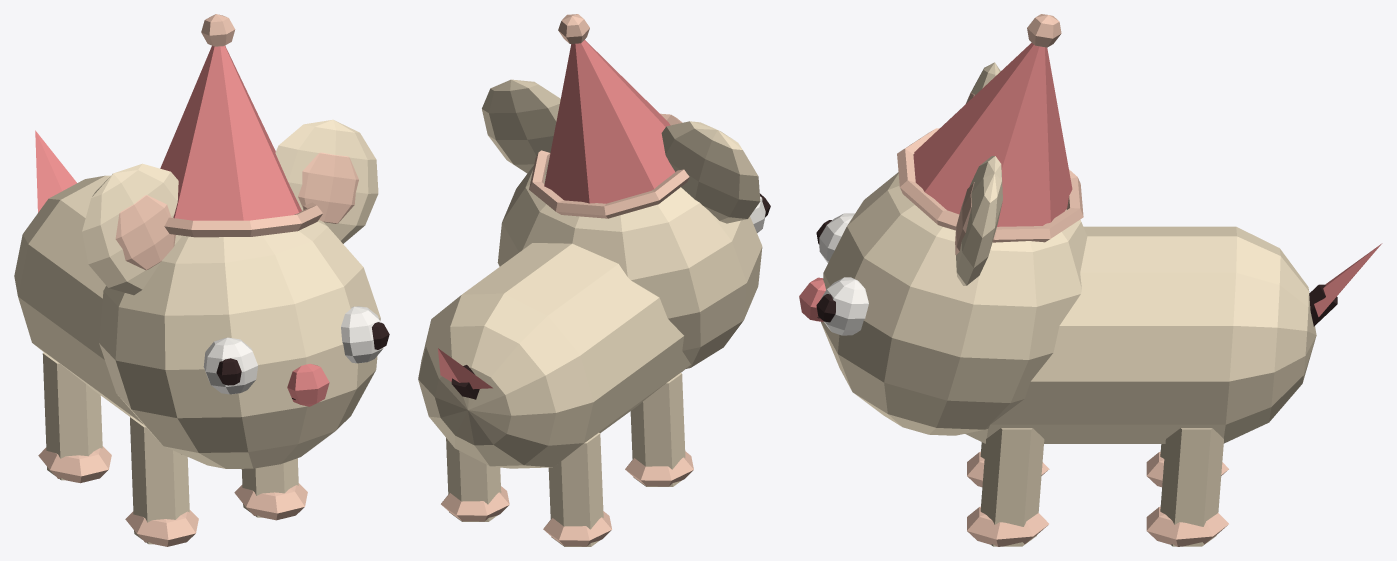
File: bean-volcanic-2.glb
3 views of the same model, side by side, from view 1: azimuth 30°, elevation 25°; view 2: azimuth 150°, elevation 25°; view 3: azimuth 270°, elevation 25° (orthographic). The views are drawn at different scales.
Visible parts, largest first — view 1: bean-volcanic-2; view 2: bean-volcanic-2; view 3: bean-volcanic-2.
Boxes of the visible parts, bbox=[...] form: bean-volcanic-2: bbox=[14, 14, 389, 546]; bean-volcanic-2: bbox=[418, 14, 770, 546]; bean-volcanic-2: bbox=[799, 14, 1382, 546].
Bounding box in the file's own units: 0.5329 × 0.8426 × 0.8861.
